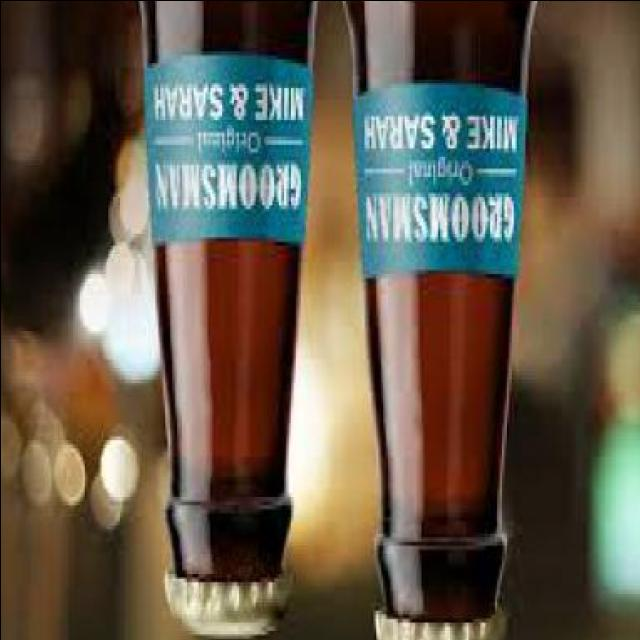kaca: (326, 0, 554, 622), (129, 0, 330, 582)
